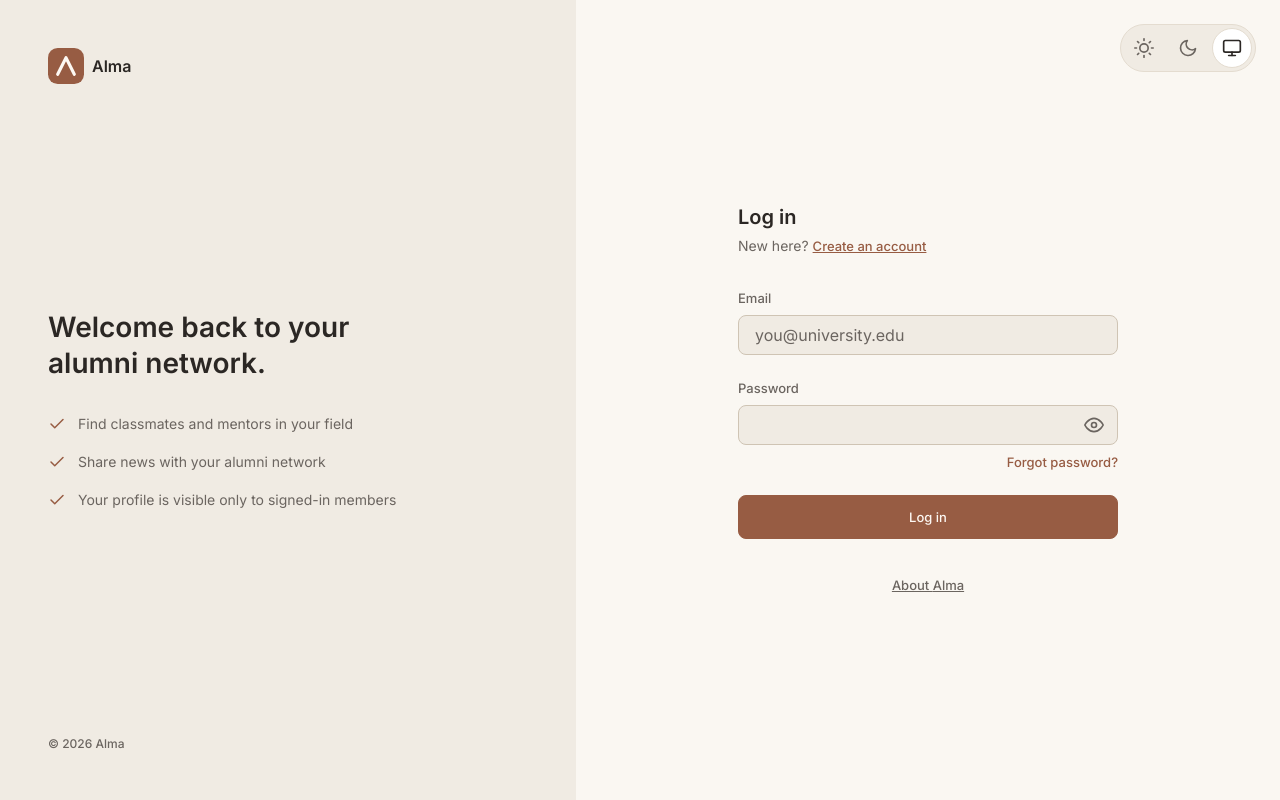
Scenario: Profile route › sends a guest to /login, then back to /alumni/3 after logging in
Type "amina@example.com" into the field labelled "Email" at coordinates (928, 335), box [738,315,1118,355]
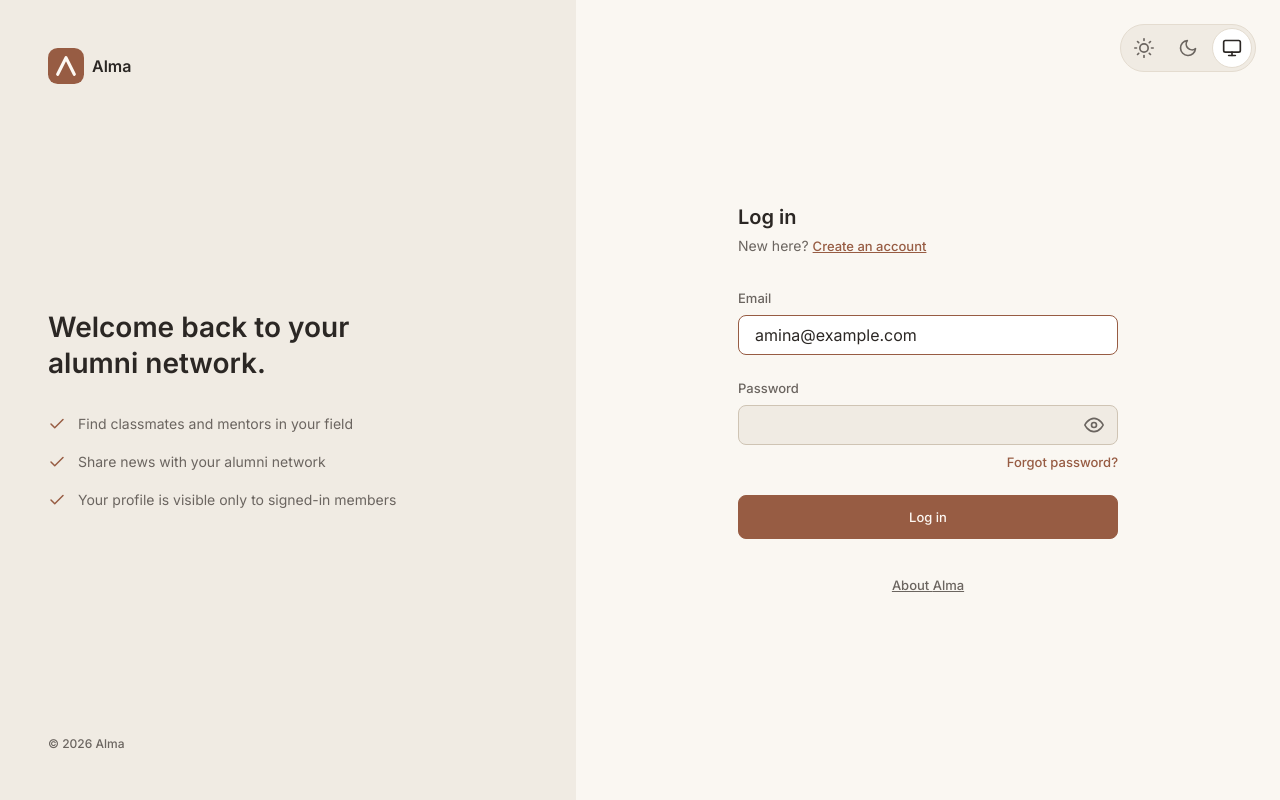
Type "correct-horse" into the password field labelled "Password" at coordinates (928, 425), box [738,405,1118,445]
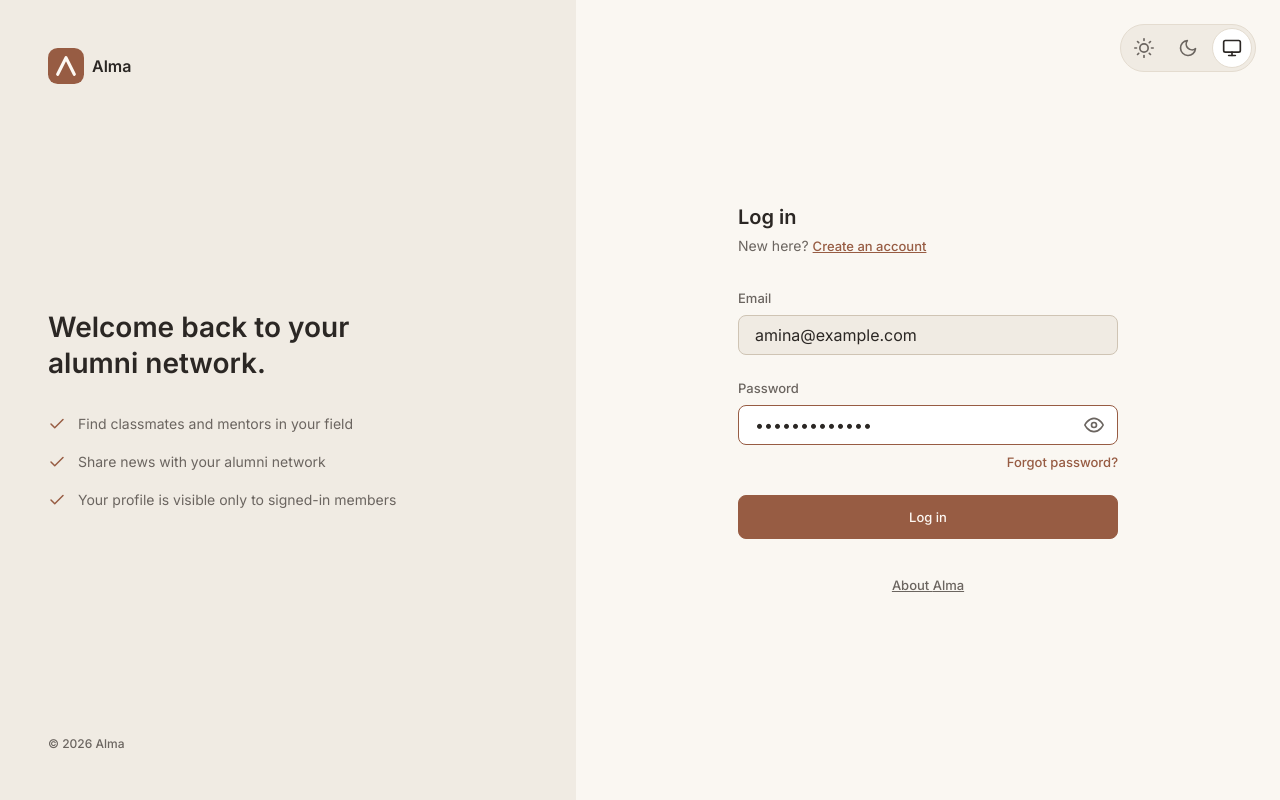
Click the button "Log in" at coordinates (928, 517), box [738,495,1118,539]
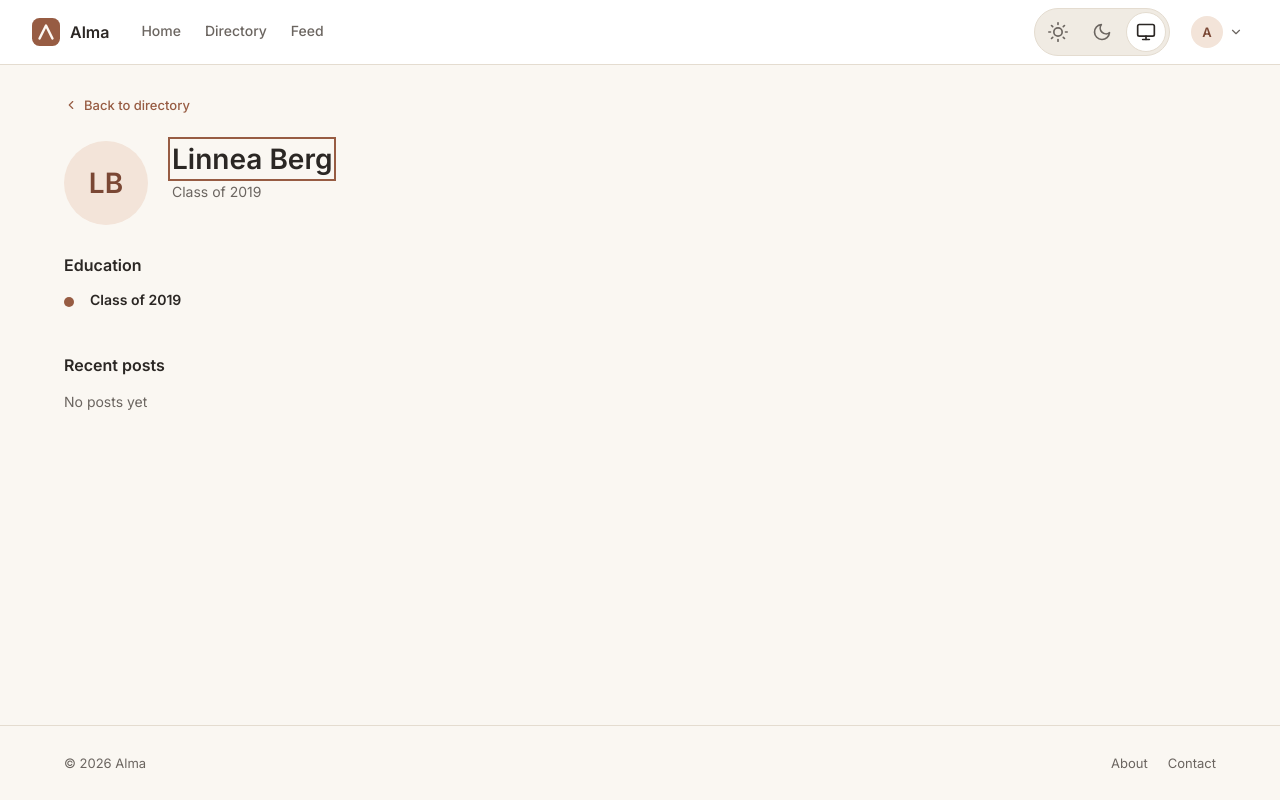
Result: the heading "Linnea Berg" is shown at [172,141,332,177]
